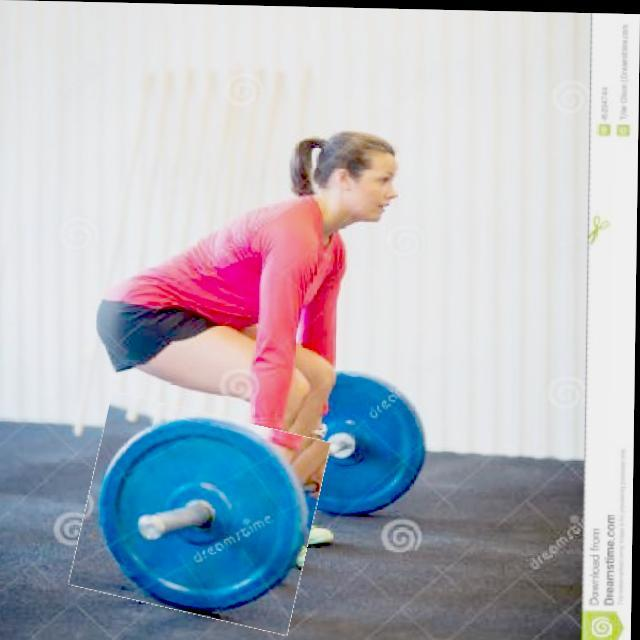barbell: (80, 402, 324, 625)
